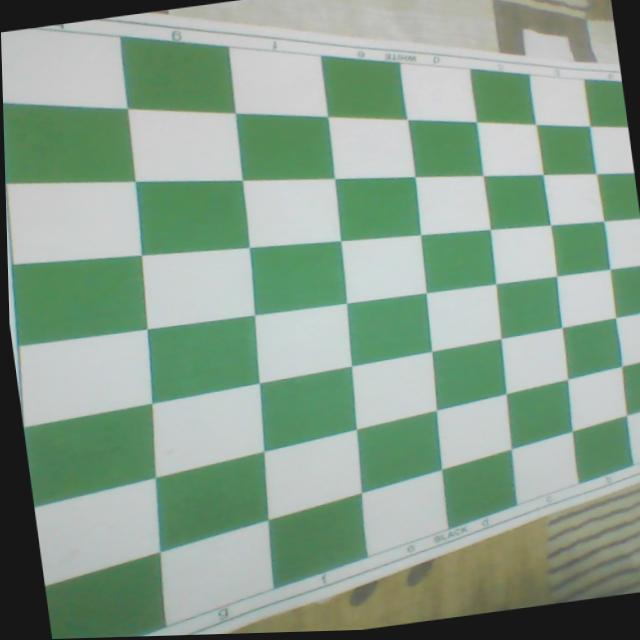square: (21, 404, 166, 510), (3, 85, 141, 196), (31, 480, 170, 590), (5, 166, 147, 271), (11, 328, 161, 426), (7, 247, 154, 346), (1, 15, 132, 123), (149, 522, 281, 626), (145, 452, 275, 552), (137, 384, 271, 481), (119, 93, 246, 195), (116, 23, 239, 124), (128, 166, 254, 262), (41, 552, 177, 639), (138, 314, 265, 404), (134, 240, 259, 328), (262, 494, 377, 589), (255, 431, 369, 519), (221, 36, 330, 127), (250, 368, 363, 455), (230, 101, 338, 190), (237, 169, 345, 254), (246, 303, 358, 384), (349, 474, 453, 560), (243, 234, 351, 316), (346, 412, 447, 494), (321, 105, 419, 187), (342, 352, 443, 430), (316, 45, 410, 127), (329, 166, 425, 246), (341, 292, 438, 366), (335, 230, 431, 304), (392, 53, 481, 131), (434, 451, 522, 529), (426, 397, 513, 472), (411, 167, 495, 241), (427, 339, 513, 411), (420, 283, 506, 354), (406, 111, 486, 184), (501, 436, 583, 506), (418, 226, 500, 293), (500, 381, 578, 451), (490, 328, 570, 396), (469, 115, 546, 185), (490, 276, 566, 341), (466, 62, 538, 130), (478, 168, 552, 234), (485, 221, 559, 285), (522, 65, 592, 132), (567, 418, 637, 483), (537, 167, 605, 229), (549, 269, 617, 331), (534, 117, 598, 181), (559, 317, 624, 379), (566, 367, 625, 431), (549, 218, 612, 276), (587, 121, 634, 178), (584, 74, 627, 132), (597, 169, 640, 224), (601, 215, 640, 269), (609, 264, 640, 317), (615, 313, 640, 367), (619, 358, 640, 415), (622, 406, 640, 466)
